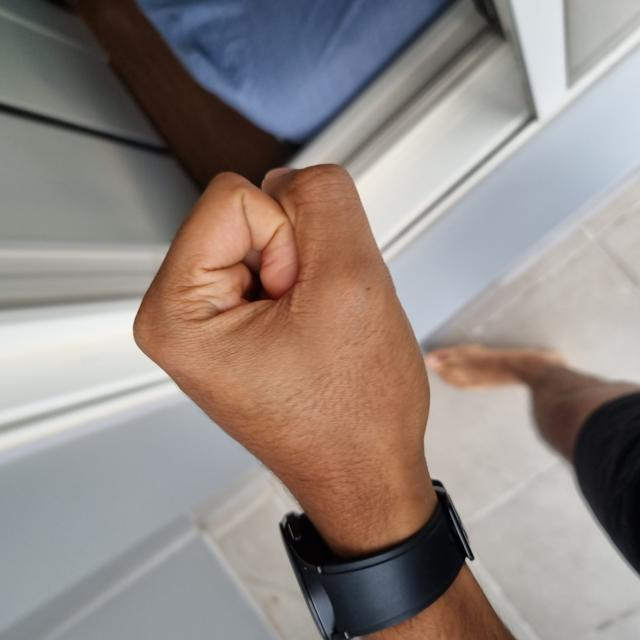Rock: (106, 137, 477, 639)
